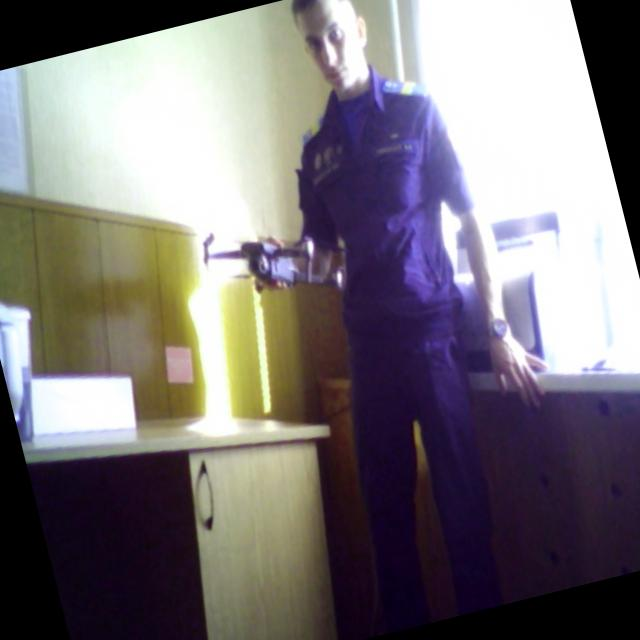drone: (185, 196, 361, 330)
